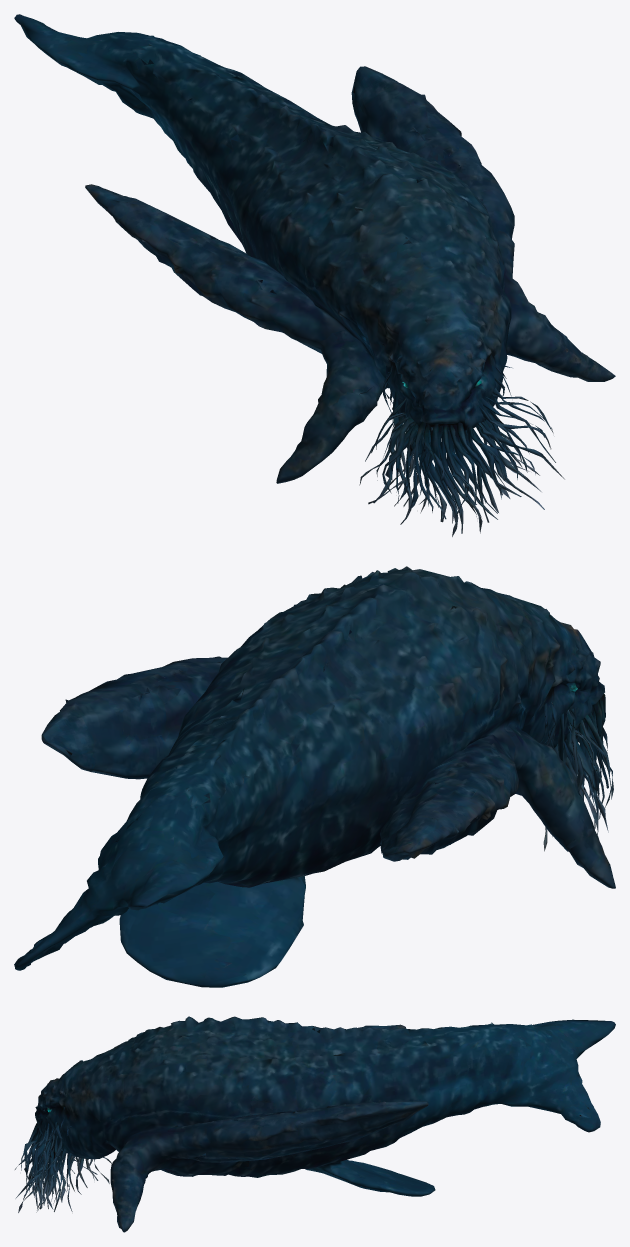
The model's file is watcher.glb.
3 renders of one model, top to bottom at view 1: azimuth 30°, elevation 25°; view 2: azimuth 150°, elevation 25°; view 3: azimuth 270°, elevation 25°, orthographic. The views are drawn at different scales.
Parts seen in each view (by area): view 1: watcher; view 2: watcher; view 3: watcher.
Boxes of the visible parts, bbox=[...] form: watcher: bbox=[14, 14, 615, 536]; watcher: bbox=[14, 566, 615, 987]; watcher: bbox=[15, 1016, 615, 1232].
Bounding box in the file's own units: 0.4584 × 0.3731 × 0.9933.
1 material, 1 textured.
